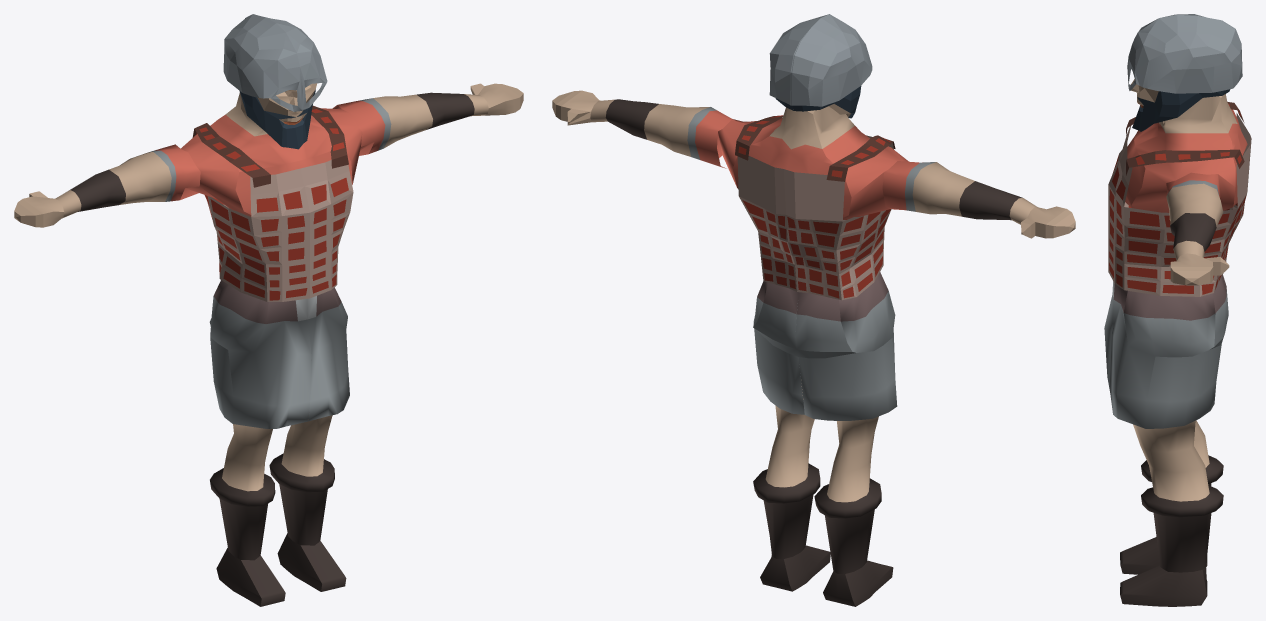
Rendered from warrior2 (1).fbx.
3 renders of one model, left to right at view 1: azimuth 30°, elevation 25°; view 2: azimuth 150°, elevation 25°; view 3: azimuth 270°, elevation 25°, orthographic. The views are drawn at different scales.
Parts seen in each view (by area): view 1: Box001, Plate ahead.001, Helmet, CABEZA; view 2: Box001, Plate ahead.001, Helmet, CABEZA; view 3: Box001, Plate ahead.001, Helmet, CABEZA.
Part boxes in pixels (box(x1,y1,x2,y2)): Box001: box(14, 83, 523, 606); Plate ahead.001: box(192, 105, 353, 301); Helmet: box(223, 14, 327, 111); CABEZA: box(239, 83, 317, 149); Box001: box(552, 90, 1075, 606); Plate ahead.001: box(735, 115, 895, 300); Helmet: box(769, 14, 872, 106); CABEZA: box(775, 86, 861, 118); Box001: box(1104, 94, 1247, 606); Plate ahead.001: box(1108, 102, 1251, 296); Helmet: box(1127, 14, 1242, 93); CABEZA: box(1131, 79, 1230, 131).
Bounding box in the file's own units: 2952 × 3102 × 726.
